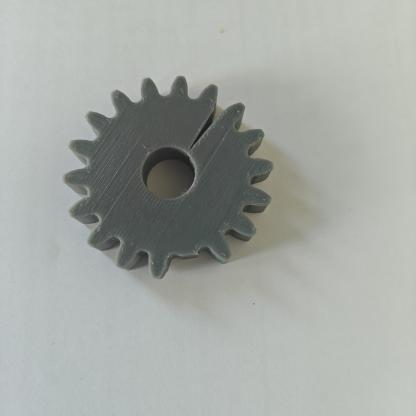defect: (166, 67, 255, 176), (146, 231, 234, 299)
gear: (59, 54, 298, 313)
